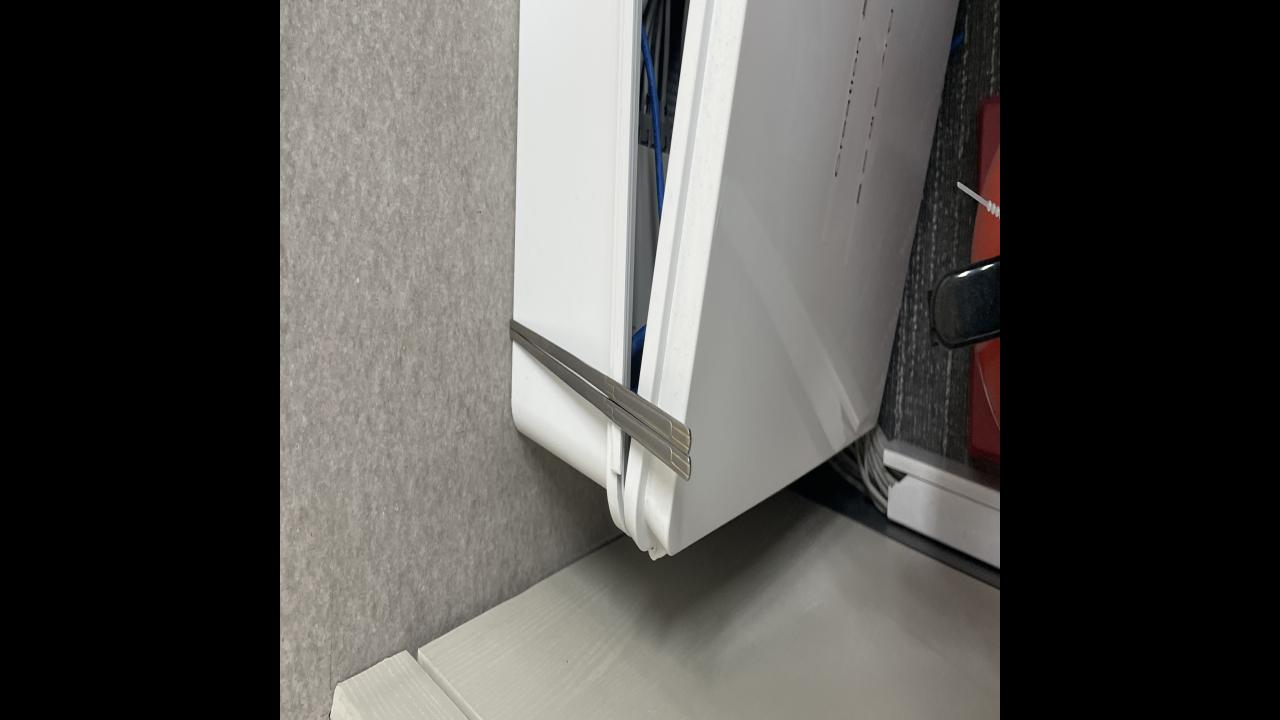chopstick: (510, 316, 690, 486)
